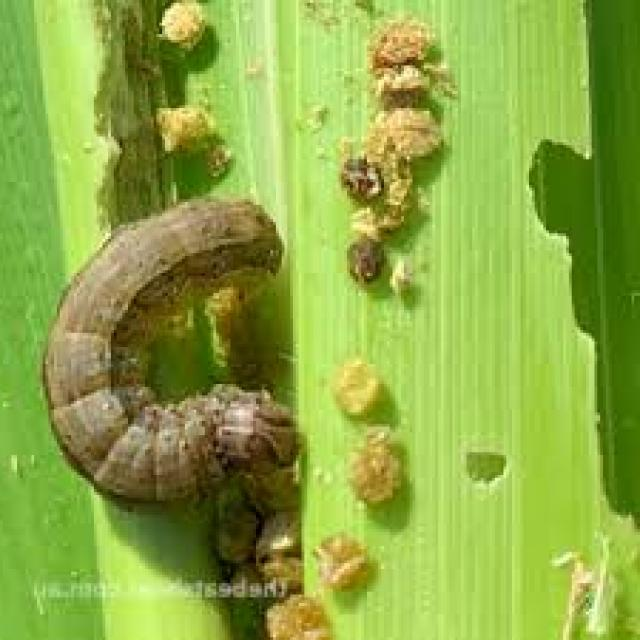armyworm: (40, 198, 284, 509)
